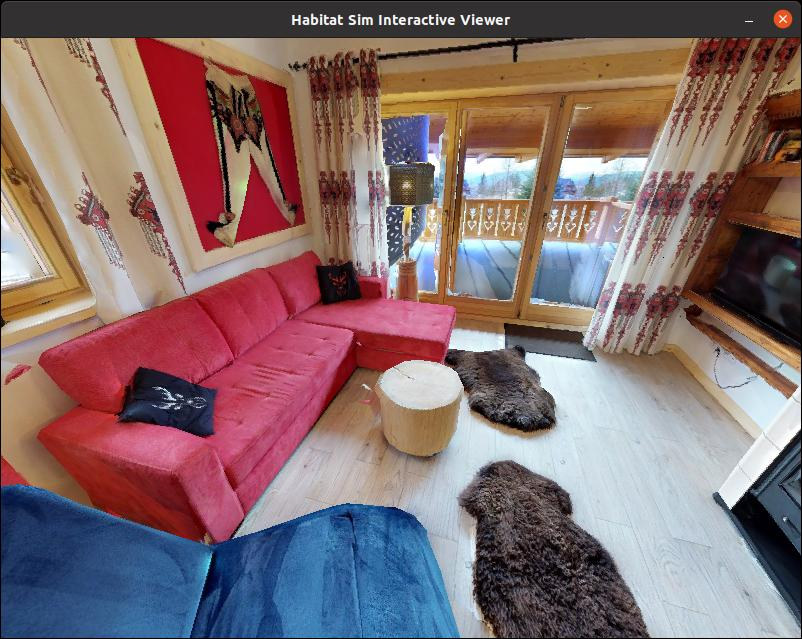sofa: (4, 225, 493, 527)
